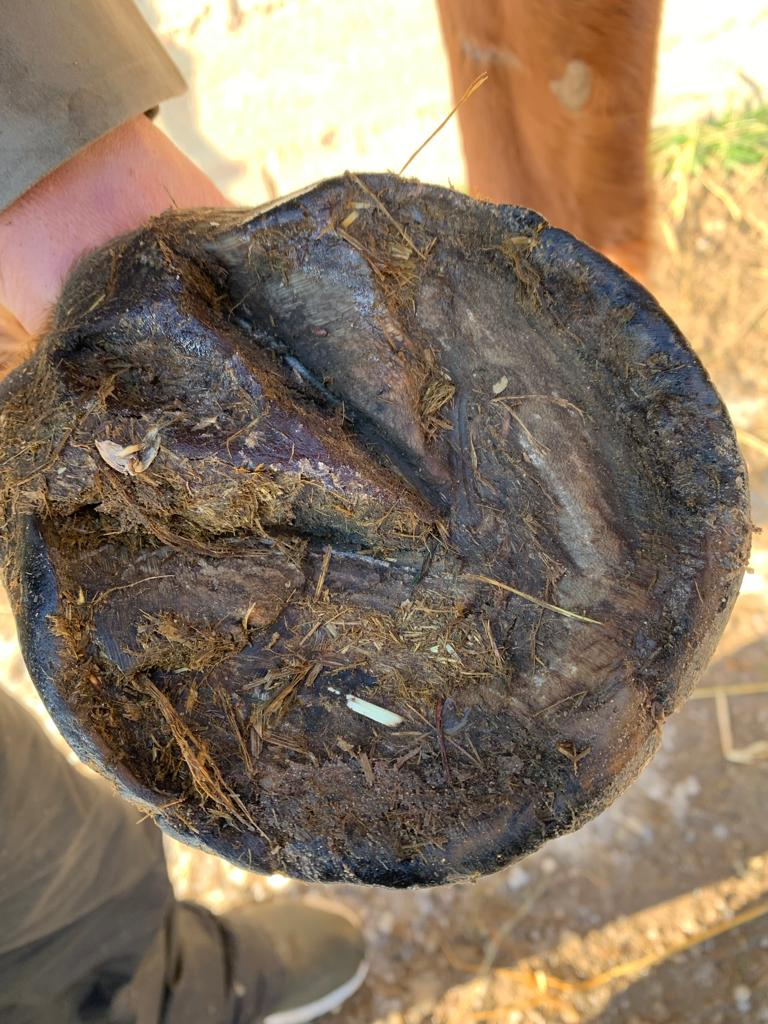horsesole: (13, 171, 752, 891)
